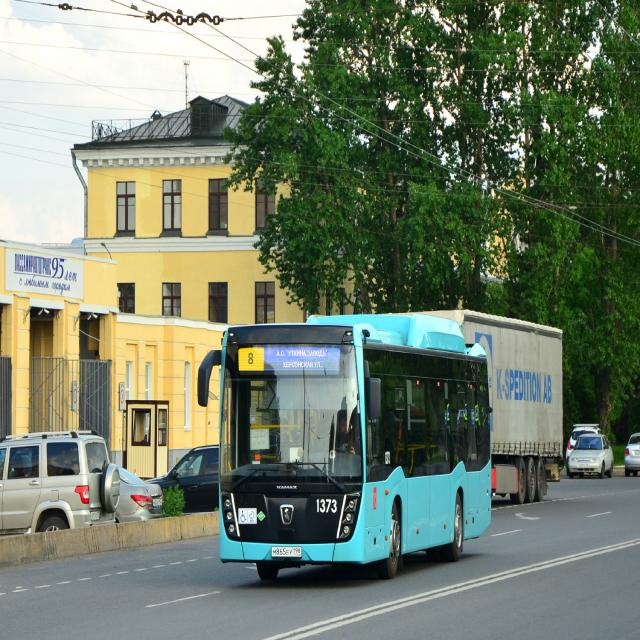number-of-bus: (244, 349, 259, 369)
